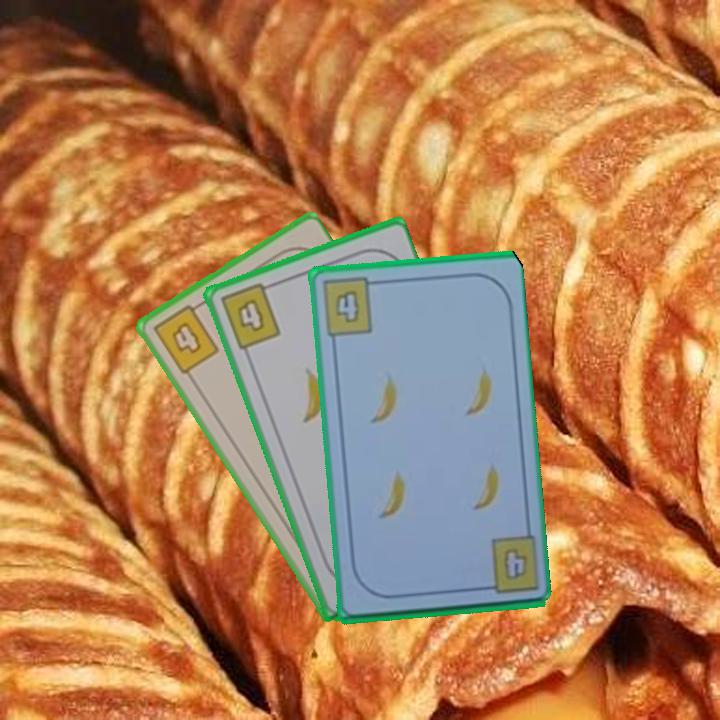4b: (149, 298, 222, 378), (216, 279, 284, 353), (318, 274, 382, 339), (499, 544, 530, 583)
